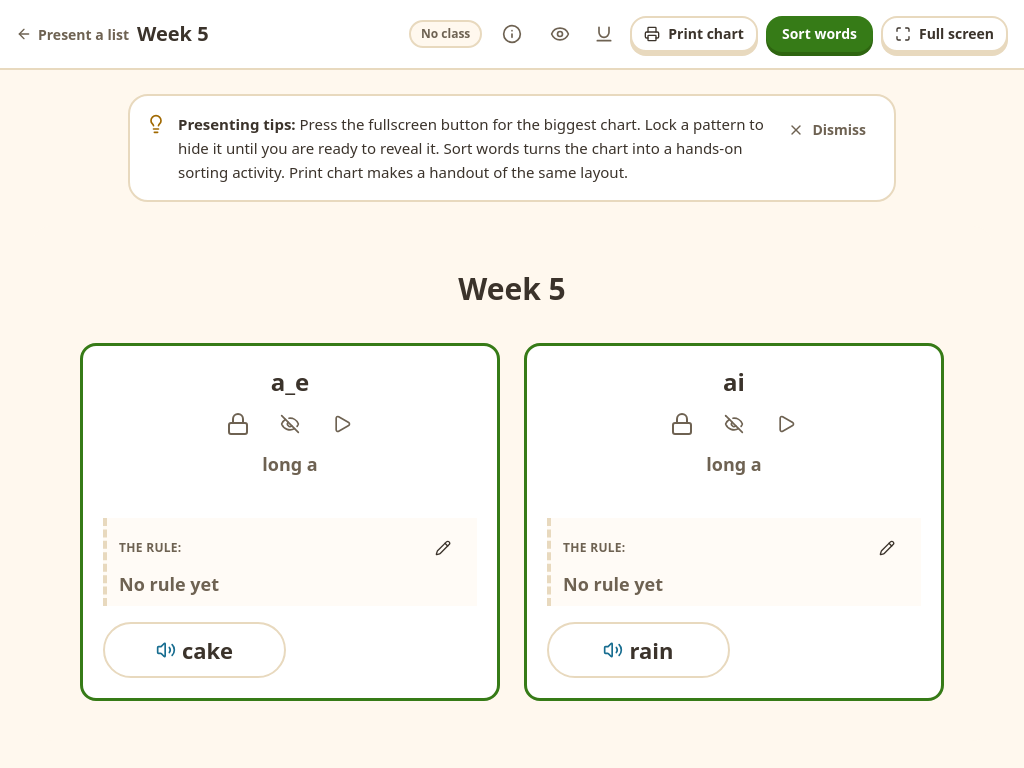
Test: DisplayMode › reverts the lock and shows an error when saving fails
Click the button named "Lock pattern a_e": [238, 424] box x1=216 y1=402 x2=260 y2=446
(page scrolled)
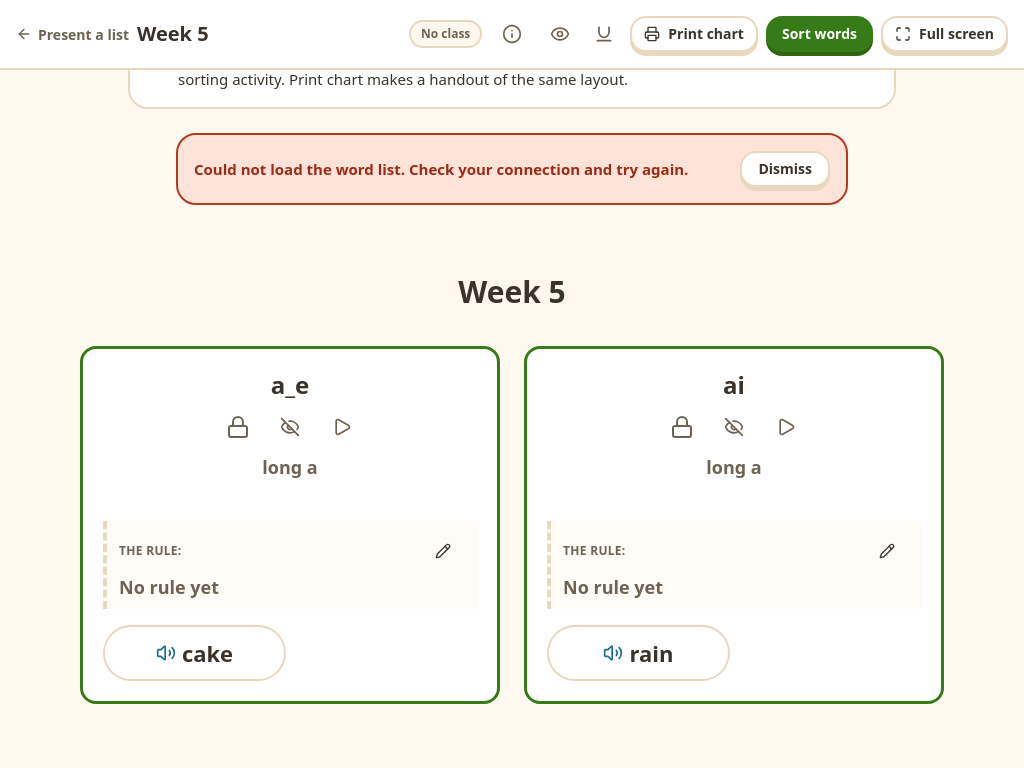
Expected: the element named "Pattern a_e" is shown, x1=80 y1=346 x2=500 y2=704
Expected: the message shows "Could not load the word list", x1=194 y1=159 x2=688 y2=179
